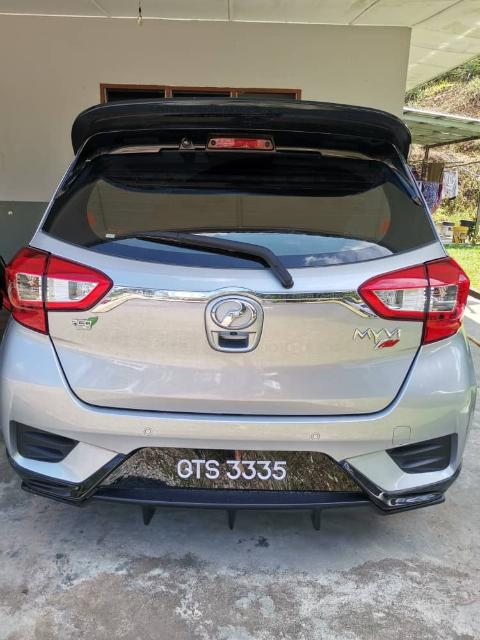License_Plate: (163, 449, 305, 489)
car: (3, 89, 480, 525)
